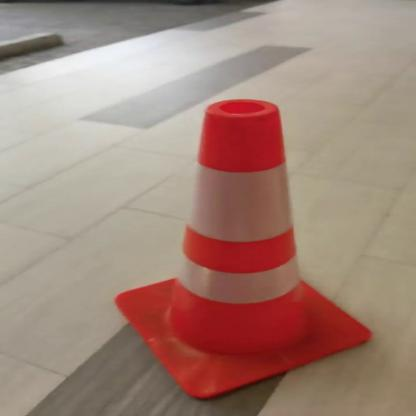cone: (84, 88, 382, 405)
